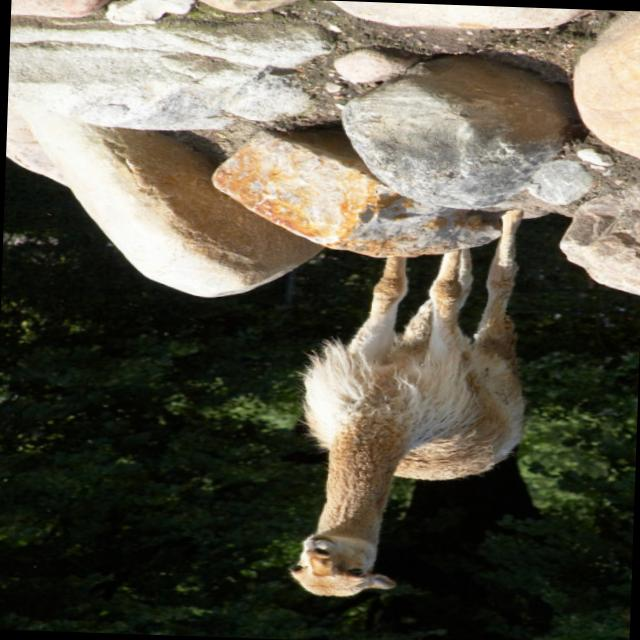alpaca: (291, 201, 537, 604)
